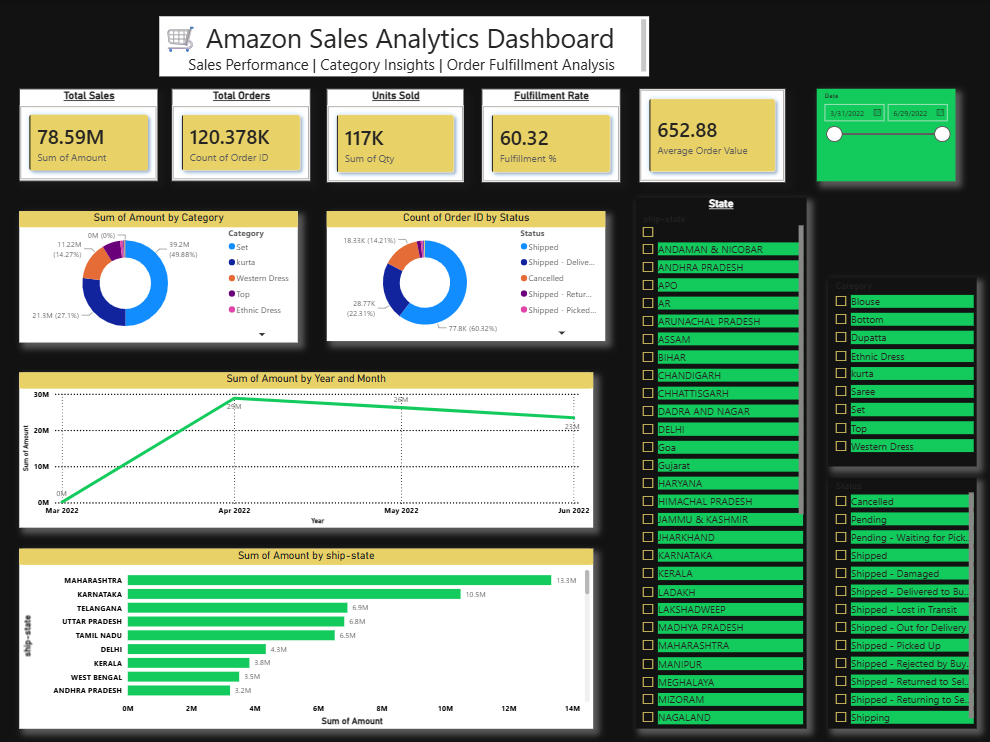

Layout of this report page (visuals, bound fields, positions):
{"tool":"powerbi","page":{"name":"Page 1","canvas":[1600,1200],"ordinal":0},"visuals":[{"type":"cardVisual","title":"Total Sales","fields":{"Data":["Sum(Amazon Sale Report.Amount)"]},"box":[34.2,142.8,223.2,148.8],"z":0},{"type":"cardVisual","title":"Total Orders","fields":{"Data":["Count(Amazon Sale Report.Order ID)"]},"box":[279.5,142.8,223.2,148.8],"z":1000},{"type":"cardVisual","title":"Units Sold","fields":{"Data":["Sum(Amazon Sale Report.Qty)"]},"box":[528.8,142.8,221.2,150.8],"z":2000},{"type":"cardVisual","title":"Fulfillment Rate","fields":{"Data":["Amazon Sale Report.Fulfillment %"]},"box":[778.2,142.8,223.2,150.8],"z":3000},{"type":"lineChart","fields":{"Y":["Sum(Amazon Sale Report.Amount)"],"Category":["Amazon Sale Report.Date.Variation.Date Hierarchy.Year","Amazon Sale Report.Date.Variation.Date Hierarchy.Month"]},"box":[34.2,599.2,922.9,249.3],"z":4000},{"type":"donutChart","fields":{"Category":["Amazon Sale Report.Category"],"Y":["Sum(Amazon Sale Report.Amount)"]},"box":[34.2,339.8,448.4,211.1],"z":5000},{"type":"clusteredBarChart","fields":{"Category":["Amazon Sale Report.ship-state"],"Y":["Sum(Amazon Sale Report.Amount)"]},"box":[34.2,882.7,922.9,289.5],"z":6000},{"type":"donutChart","fields":{"Category":["Amazon Sale Report.Status"],"Y":["CountNonNull(Amazon Sale Report.Order ID)"]},"box":[528.8,339.8,448.4,209.1],"z":7000},{"type":"slicer","fields":{"Values":["Amazon Sale Report.Date"]},"box":[1317,142.8,223.2,148.8],"z":8000},{"type":"slicer","fields":{"Values":["Amazon Sale Report.Category"]},"box":[1335.1,446.4,239.3,303.6],"z":9000},{"type":"slicer","title":"State","fields":{"Values":["Amazon Sale Report.ship-state"]},"box":[1025.5,317.7,275.5,854.6],"z":10000},{"type":"slicer","fields":{"Values":["Amazon Sale Report.Status"]},"box":[1335.1,768.1,239.3,404.2],"z":11000},{"type":"textbox","box":[259.4,26.1,788.2,96.5],"z":12000},{"type":"cardVisual","fields":{"Data":["Amazon Sale Report.Average Order Value"]},"box":[1031.5,142.8,235.3,150.8],"z":13000}]}

Visuals, with their boxes in screenshot pixels (x1, y1, x2, y2), scaled from the page's 1600x1200 canvas onto the 990x742 screenshot:
"Total Sales" cardVisual: bbox=[21, 88, 159, 180]
"Total Orders" cardVisual: bbox=[173, 88, 311, 180]
"Units Sold" cardVisual: bbox=[327, 88, 464, 182]
"Fulfillment Rate" cardVisual: bbox=[482, 88, 620, 182]
lineChart - Sum(Amazon Sale Report.Amount) x Amazon Sale Report.Date.Variation.Date Hierarchy.Year: bbox=[21, 371, 592, 525]
donutChart - Amazon Sale Report.Category x Sum(Amazon Sale Report.Amount): bbox=[21, 210, 299, 341]
clusteredBarChart - Amazon Sale Report.ship-state x Sum(Amazon Sale Report.Amount): bbox=[21, 546, 592, 725]
donutChart - Amazon Sale Report.Status x CountNonNull(Amazon Sale Report.Order ID): bbox=[327, 210, 605, 339]
slicer - Amazon Sale Report.Date: bbox=[815, 88, 953, 180]
slicer - Amazon Sale Report.Category: bbox=[826, 276, 974, 464]
"State" slicer: bbox=[635, 196, 805, 725]
slicer - Amazon Sale Report.Status: bbox=[826, 475, 974, 725]
textbox: bbox=[161, 16, 648, 76]
cardVisual - Amazon Sale Report.Average Order Value: bbox=[638, 88, 784, 182]
